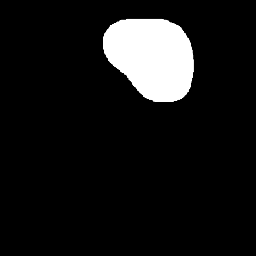mass: (102, 14, 191, 84)
